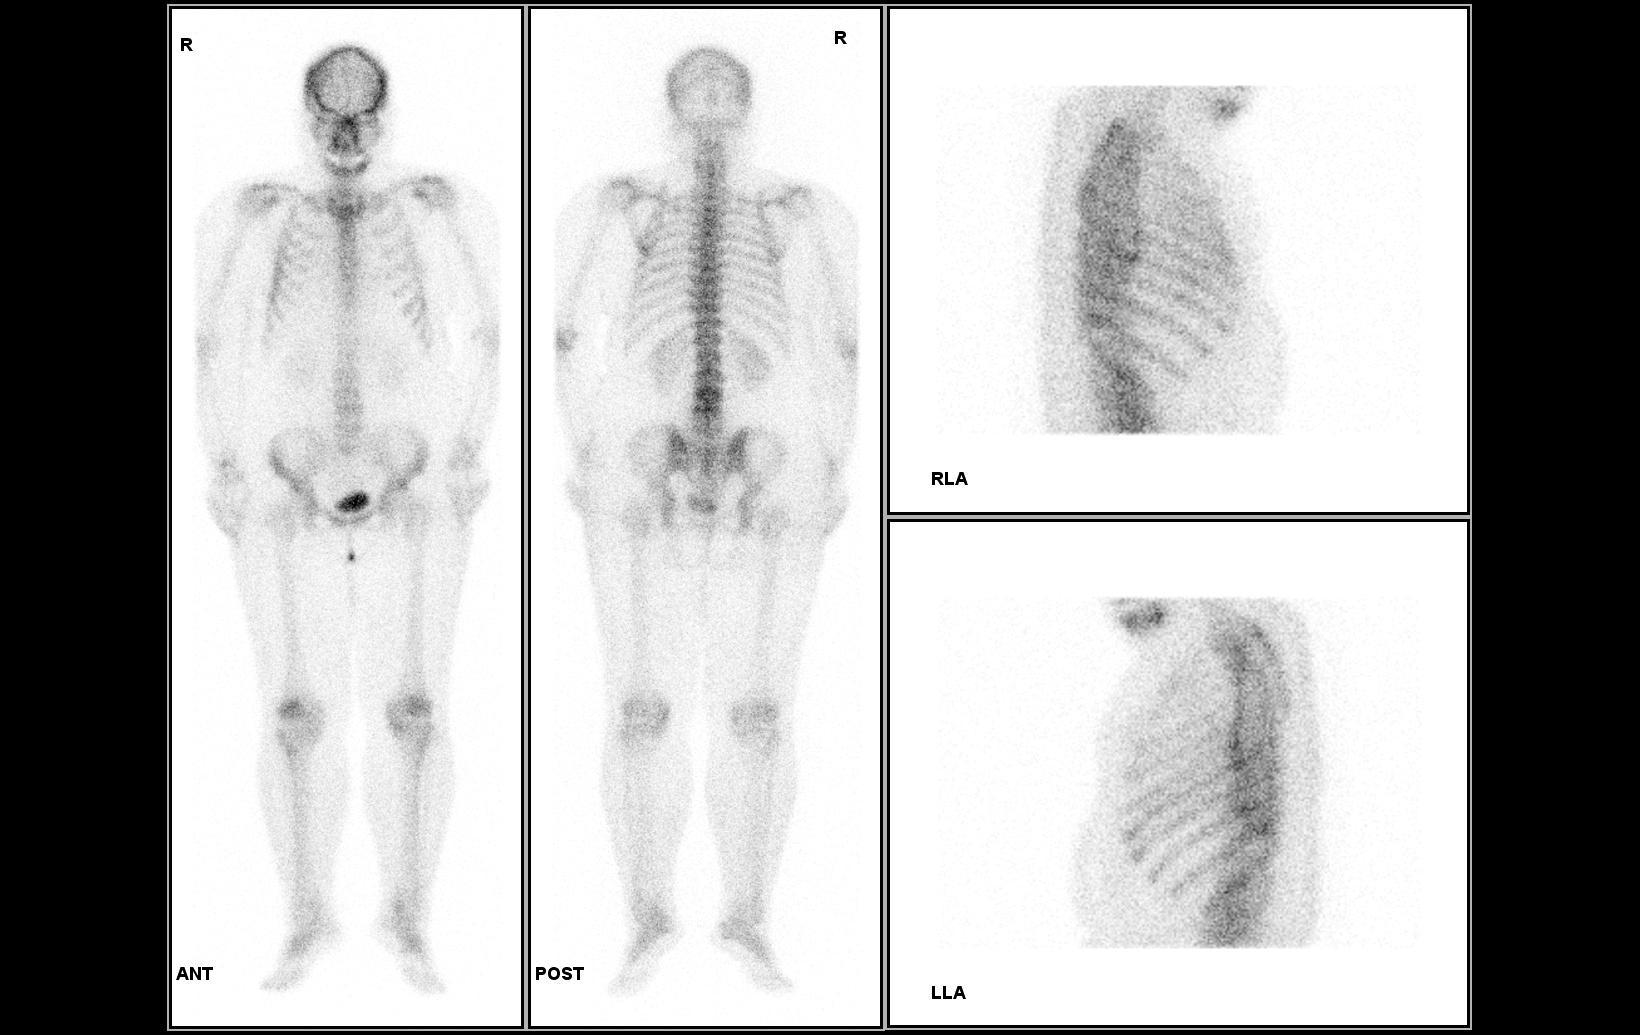person: (172, 10, 880, 1026)
